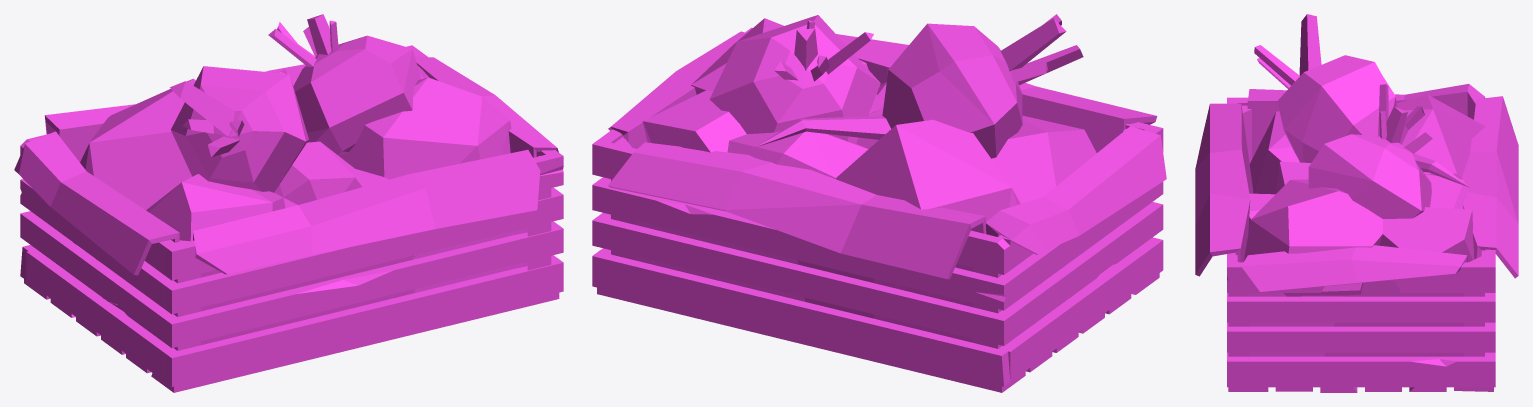
Rendered from SM_Crate_Wood_Medium_Paper_Beetroot.fbx.
3 renders of one model, left to right at view 1: azimuth 30°, elevation 25°; view 2: azimuth 150°, elevation 25°; view 3: azimuth 270°, elevation 25°, orthographic. The views are drawn at different scales.
Parts seen in each view (by area): view 1: SM_Crate_Wood_Medium_Paper_Beetroot; view 2: SM_Crate_Wood_Medium_Paper_Beetroot; view 3: SM_Crate_Wood_Medium_Paper_Beetroot.
Boxes of the visible parts, bbox=[...] form: SM_Crate_Wood_Medium_Paper_Beetroot: bbox=[14, 14, 563, 392]; SM_Crate_Wood_Medium_Paper_Beetroot: bbox=[592, 14, 1166, 392]; SM_Crate_Wood_Medium_Paper_Beetroot: bbox=[1195, 14, 1518, 392].
Size of the model in its own units: 0.663 by 0.393 by 0.4887.
